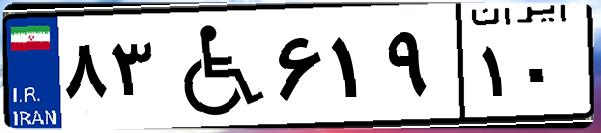0: (525, 38, 570, 115)
1: (330, 28, 385, 110), (475, 38, 525, 113)
3: (110, 28, 158, 98)
6: (270, 28, 330, 110)
8: (57, 26, 110, 100)
9: (385, 28, 445, 110)
ژ (معلولین و جانبازان): (158, 12, 270, 120)
